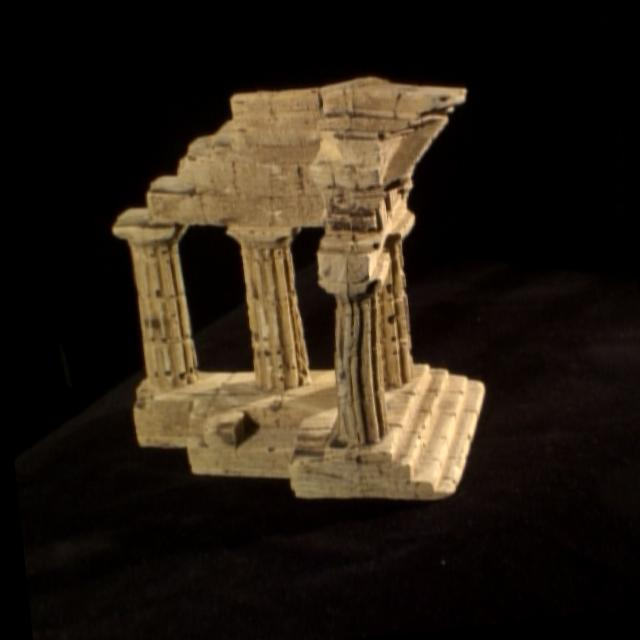Instance-Segmentation: (112, 76, 481, 498)
